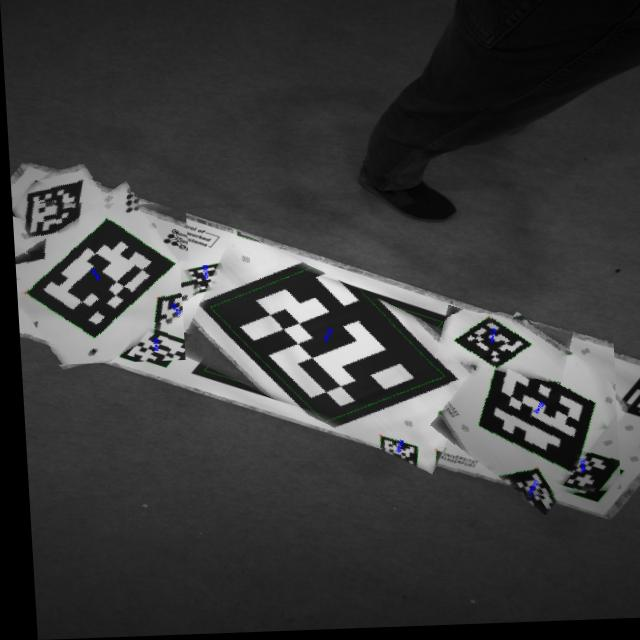aruco: (177, 254, 481, 456), (435, 332, 616, 508), (9, 196, 190, 366), (431, 314, 569, 390), (8, 164, 102, 241)
